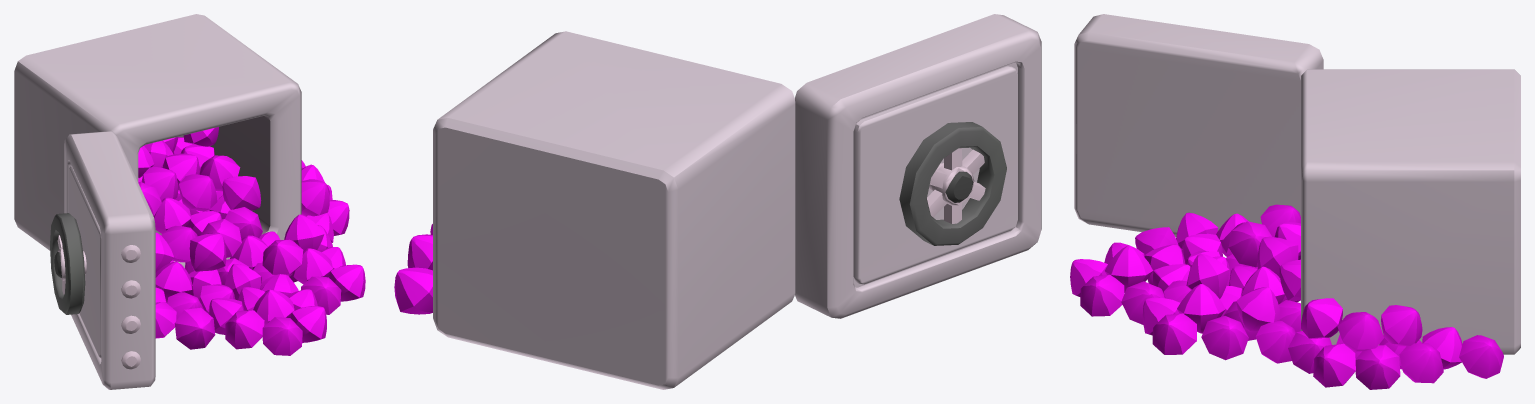
3 views of the same model, side by side, from view 1: azimuth 30°, elevation 25°; view 2: azimuth 150°, elevation 25°; view 3: azimuth 270°, elevation 25° (orthographic). The views are drawn at different scales.
Visible parts, largest first — view 1: model_0.001; view 2: model_0.001; view 3: model_0.001.
Boxes of the visible parts, left/top/right/bottom form: model_0.001: left=14, top=14, right=365, bottom=389; model_0.001: left=394, top=14, right=1041, bottom=389; model_0.001: left=1070, top=14, right=1520, bottom=389.
Bounding box in the file's own units: 7.55 × 3.53 × 7.42.
